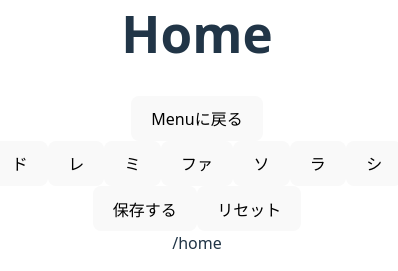
Menuに戻るボタンを押した時、/に遷移する
Click the button "Menuに戻る".
click(197, 118)  # box [131,96,263,141]
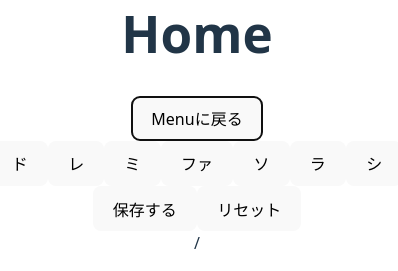
Check: the text with test id "location-display" reads "/", box [194,232,200,254]
